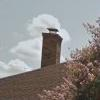Chimney: (37, 21, 64, 71)
